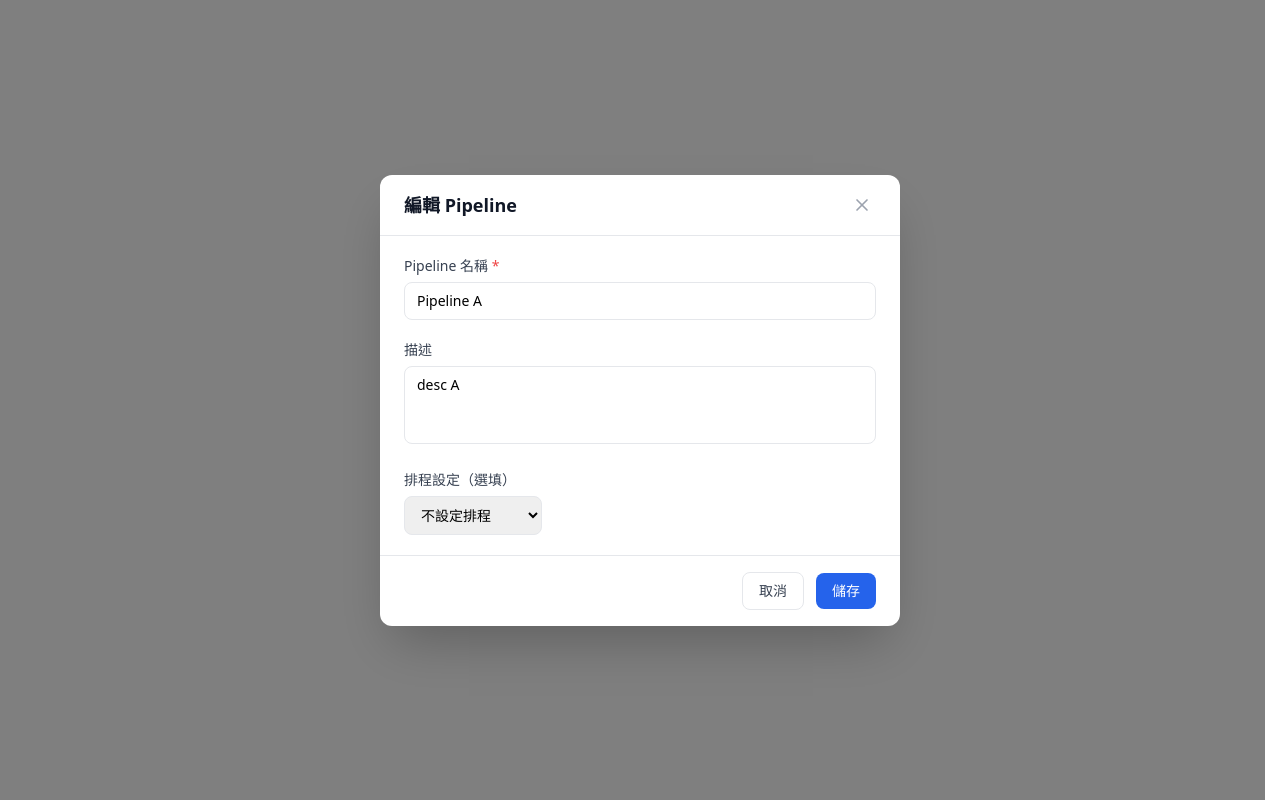
Test case: EditPipelineModal (F093) › TS-F093-FE-011: manual cron toggle shows manual input and preview
The image size is (1280, 800).
Select "手動輸入 Cron" in the dropdown with test id "schedule-frequency-select" at (473, 515), box [404,496,542,534]
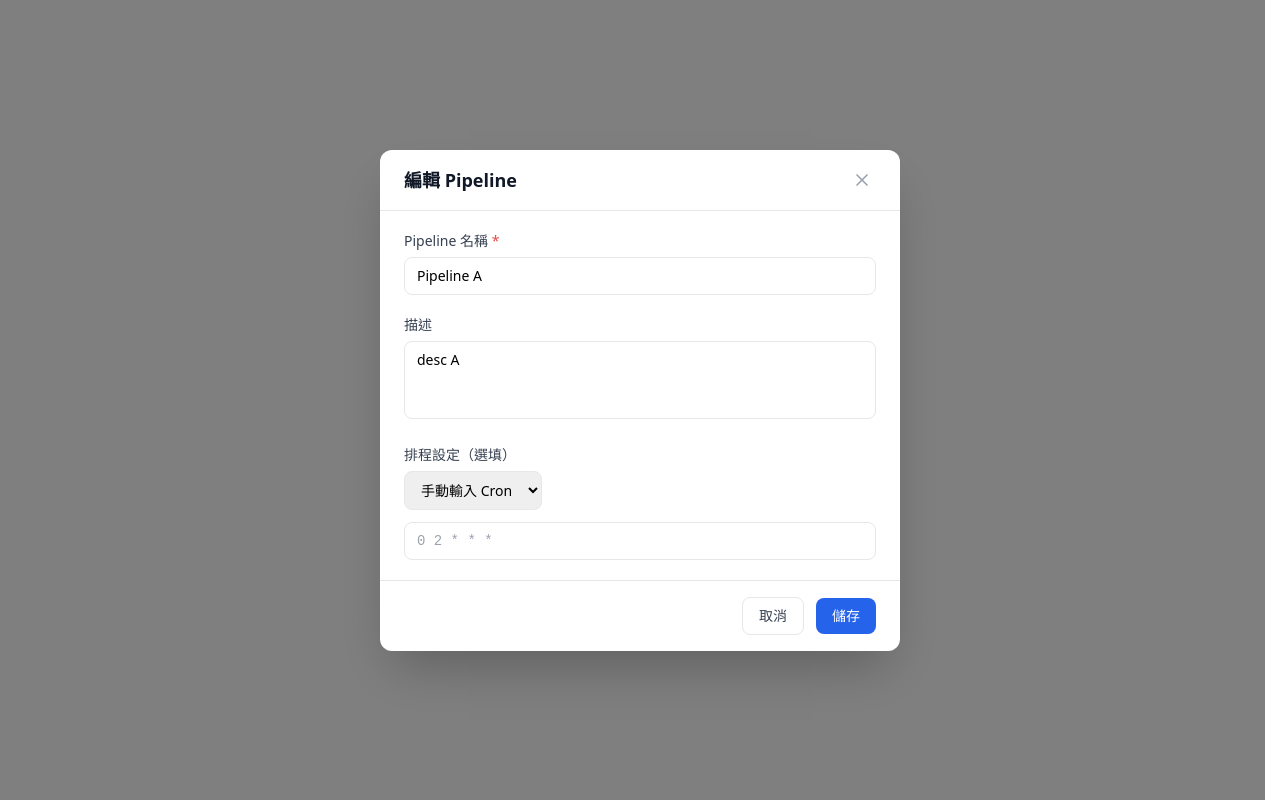
Result: the field with test id "manual-cron-input" is shown
Type "5 4 * * 0" into the field with test id "manual-cron-input".
click(640, 540); type("5 4 * * 0")  # box [404,522,876,560]
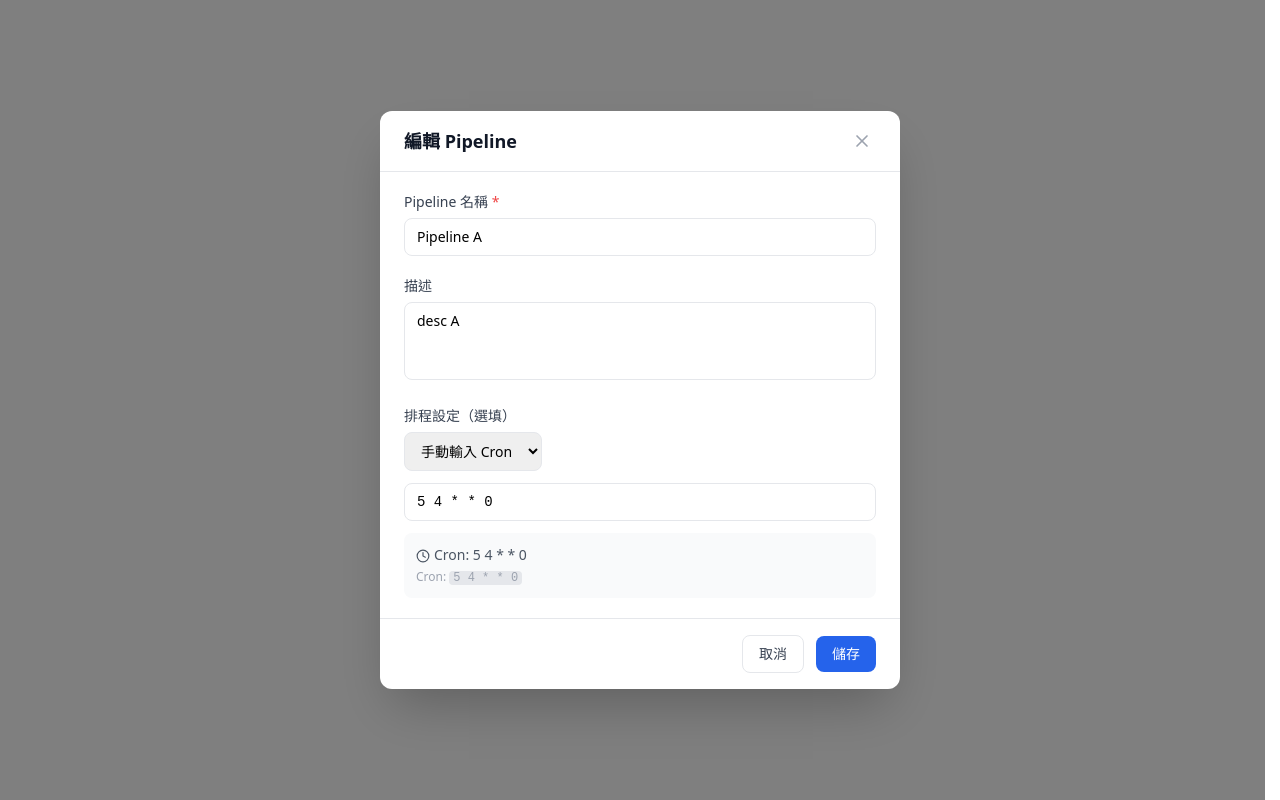
Result: the element with test id "schedule-preview" shows "5 4 * * 0" at [453,571,518,585]
